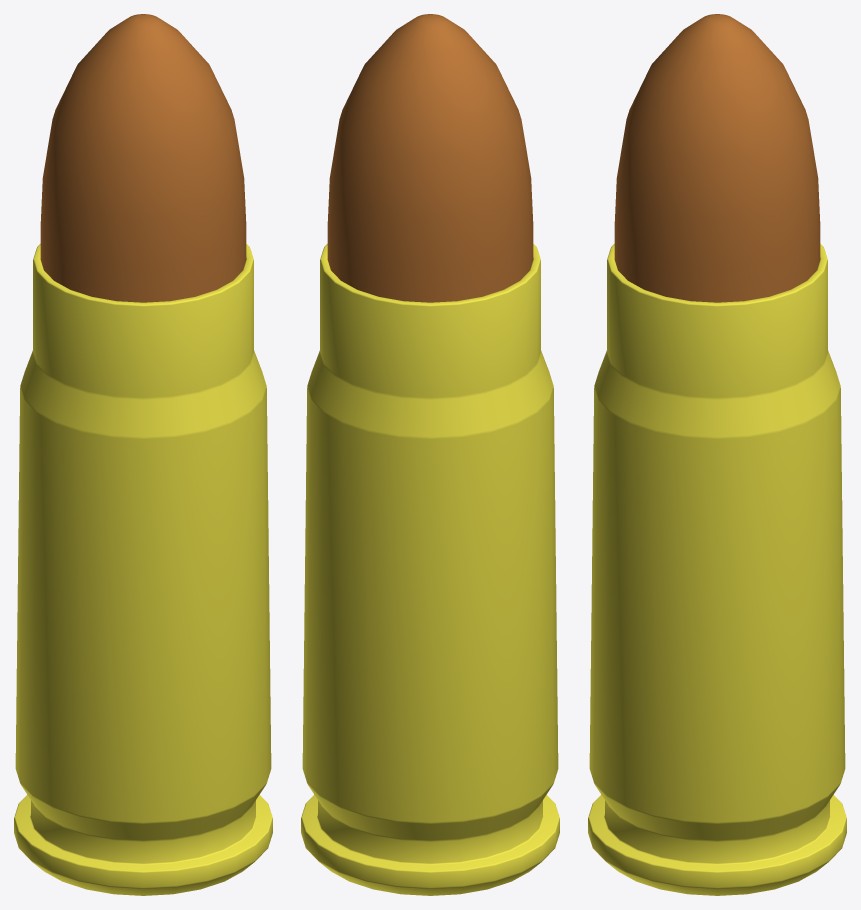
The model's file is bullet.glb.
3 renders of one model, left to right at view 1: azimuth 30°, elevation 25°; view 2: azimuth 150°, elevation 25°; view 3: azimuth 270°, elevation 25°, orthographic.
Visible parts, largest first — view 1: Case, Projectile; view 2: Case, Projectile; view 3: Case, Projectile.
Part boxes in pixels (x1,y1,x2,y2): Case: (14, 244, 272, 895); Projectile: (40, 14, 246, 302); Case: (301, 244, 559, 895); Projectile: (327, 14, 533, 302); Case: (588, 244, 846, 895); Projectile: (614, 14, 820, 302).
Bounding box in the file's own units: 0.00995 × 0.0352 × 0.00995.
